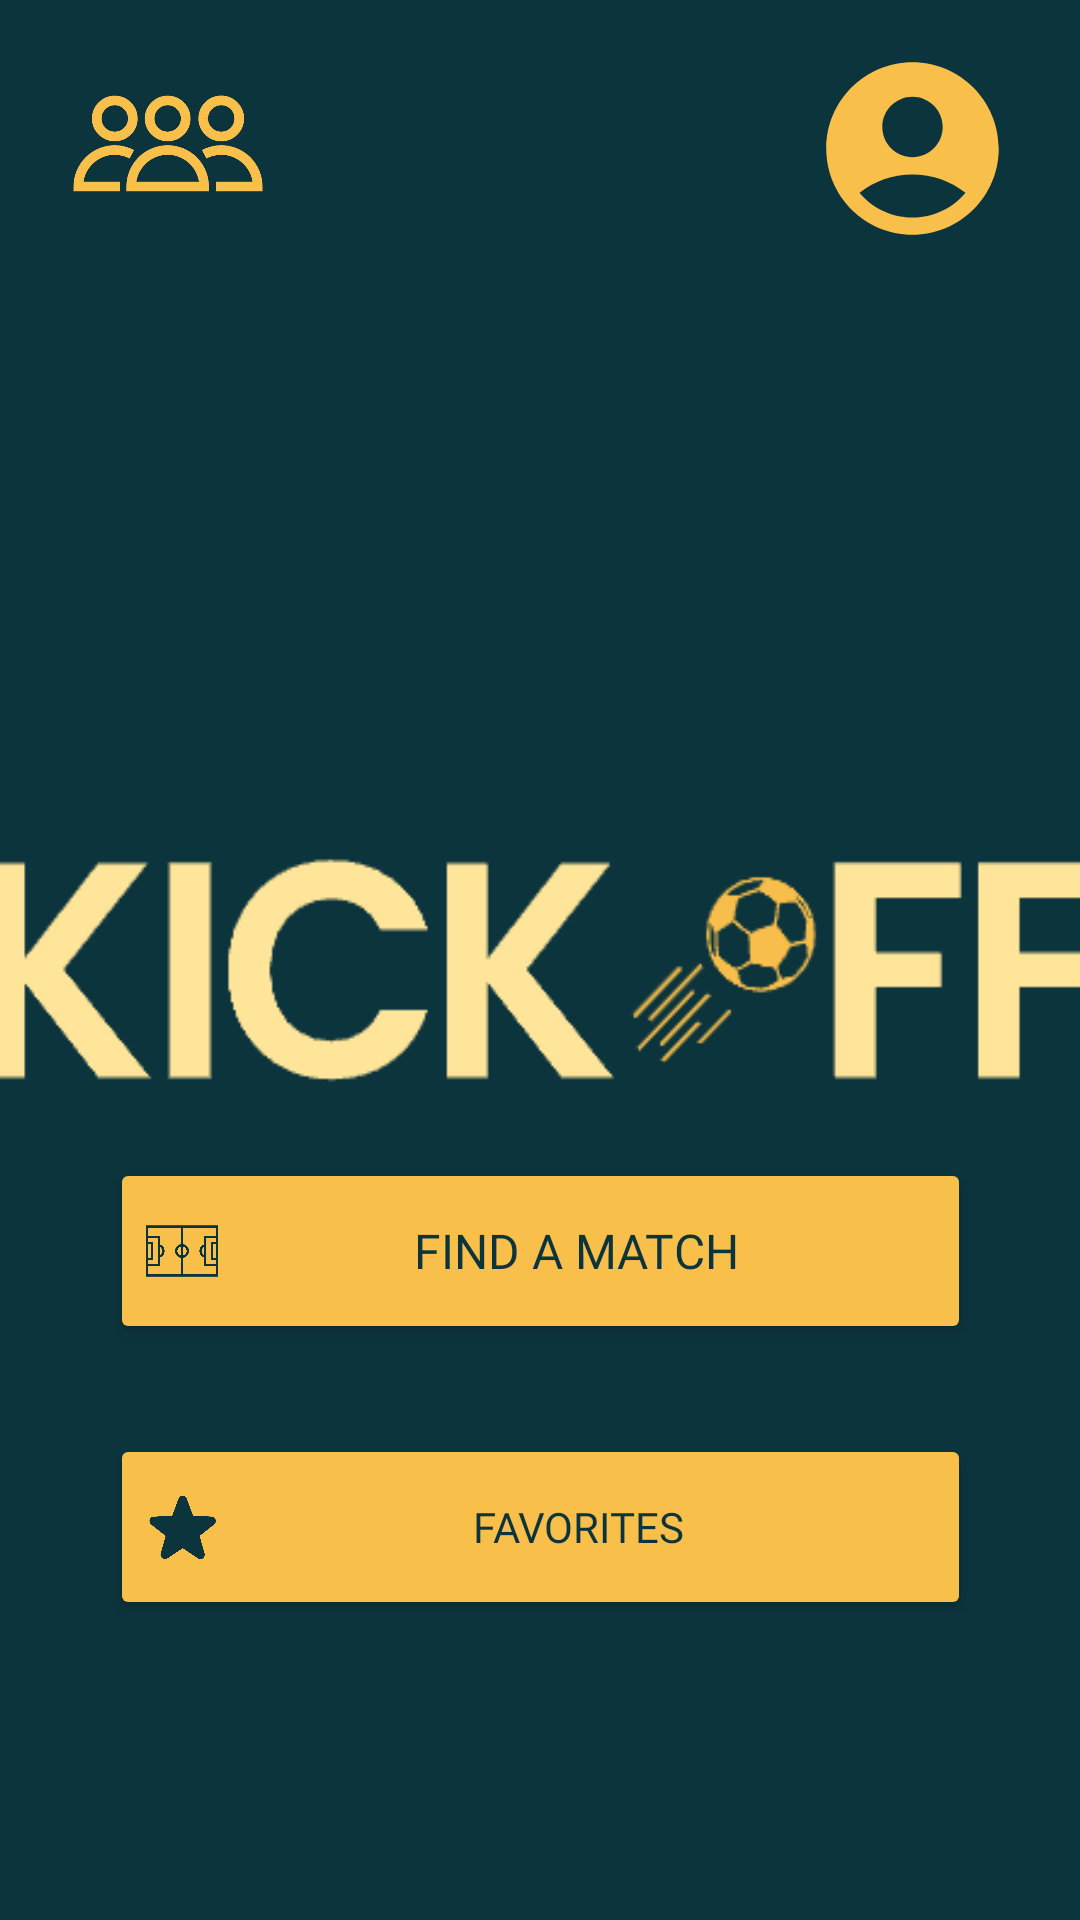

Named icons in this screenshot (1080px×1920px) and their bounding boxes, (x1, y1, x2, y2):
GROUP: (73, 95, 263, 192)
PROFILE: (826, 62, 999, 235)
